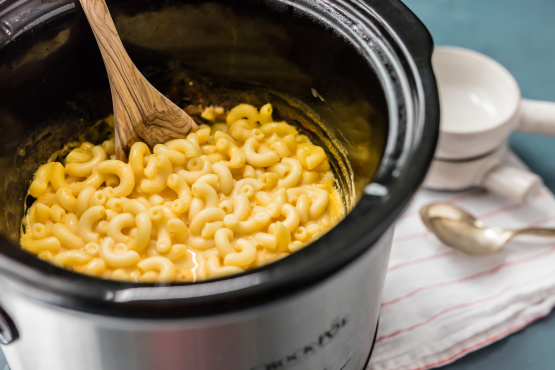macncheese: (21, 103, 342, 284)
